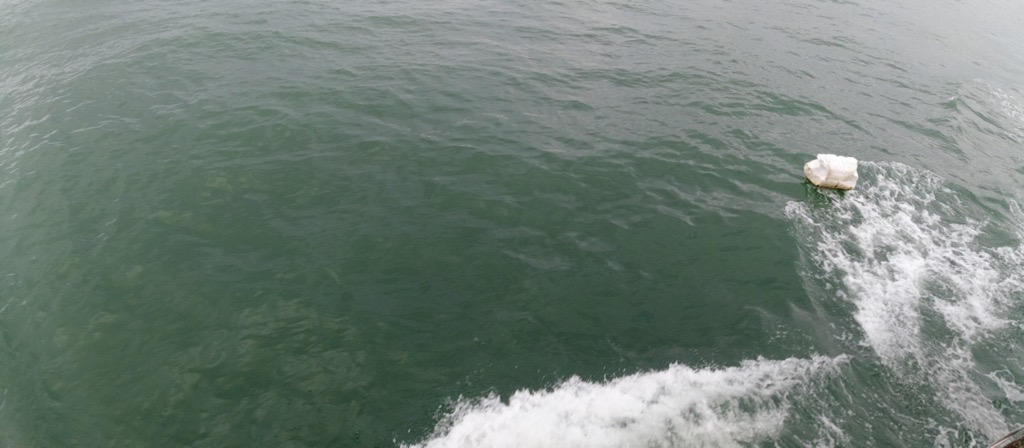plastic: (799, 147, 865, 196)
